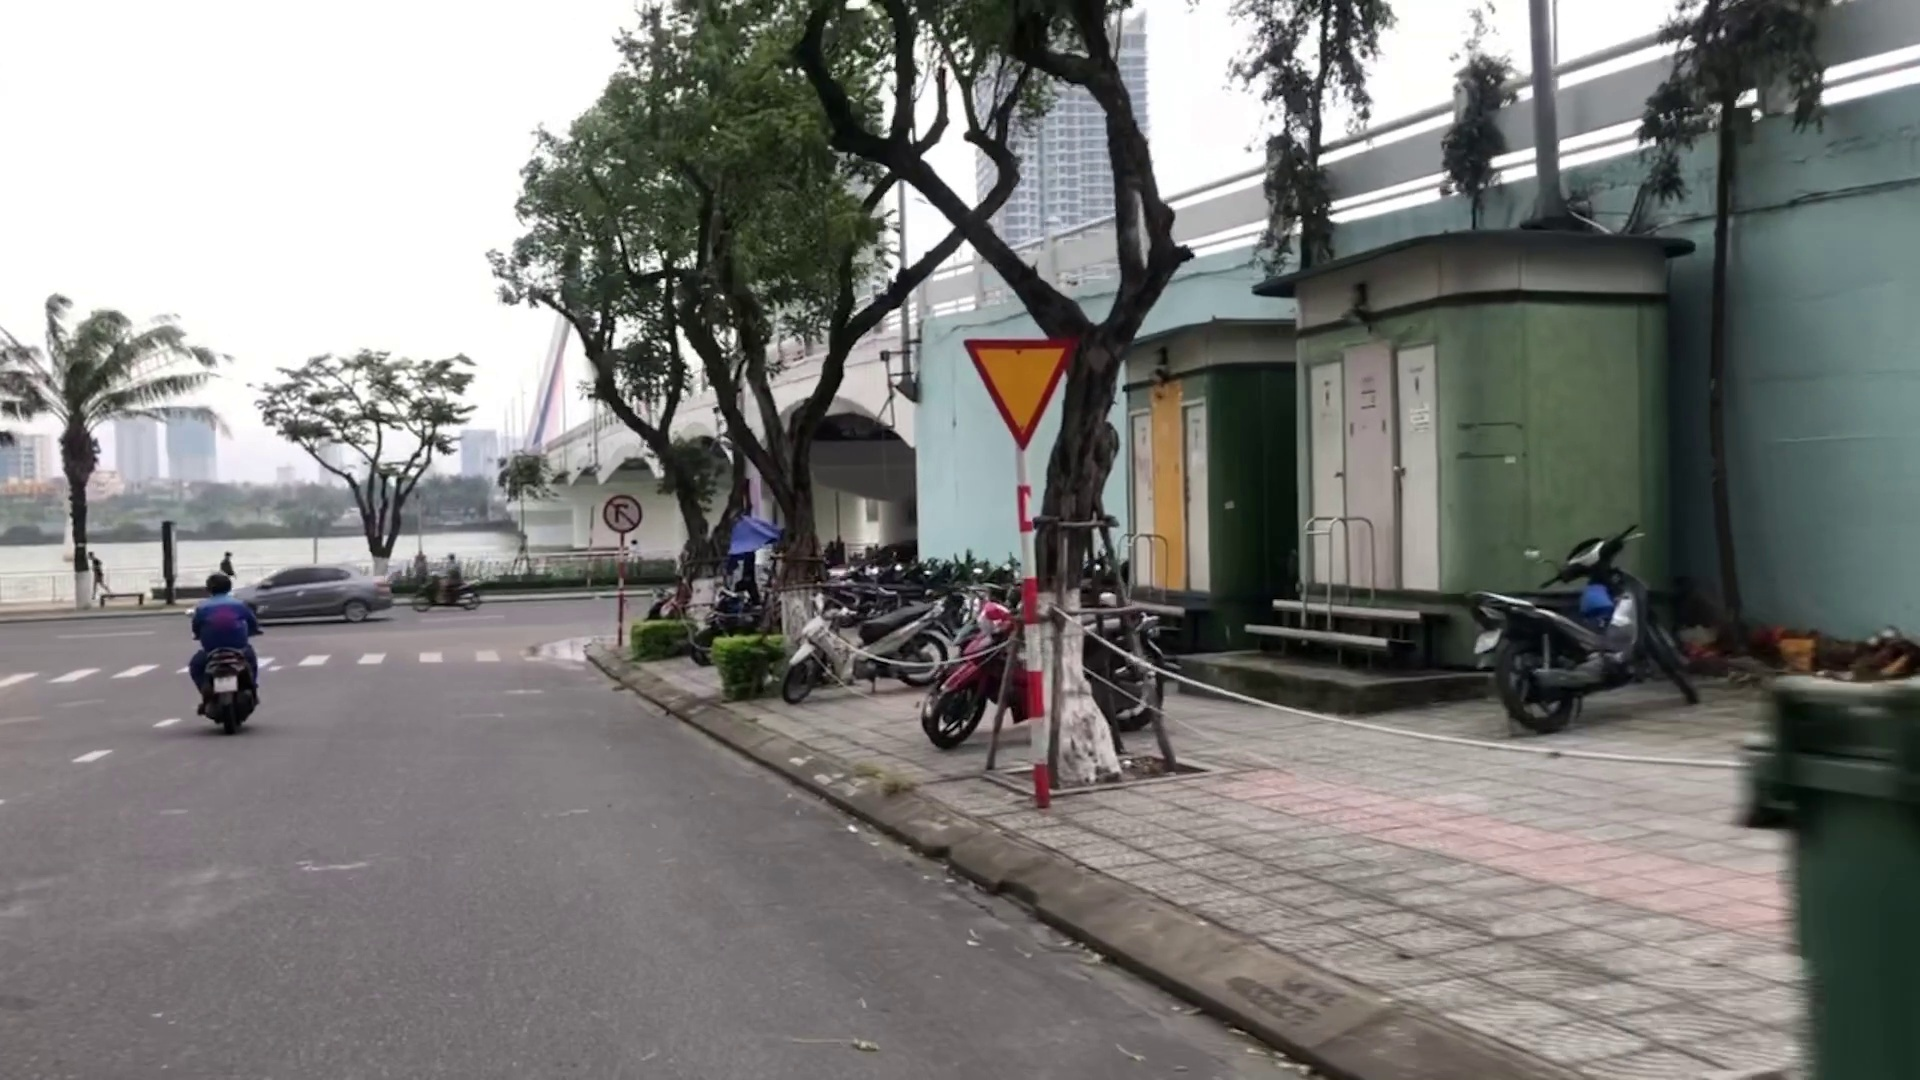Bien khac: (964, 326, 1069, 450), (603, 491, 644, 537)
